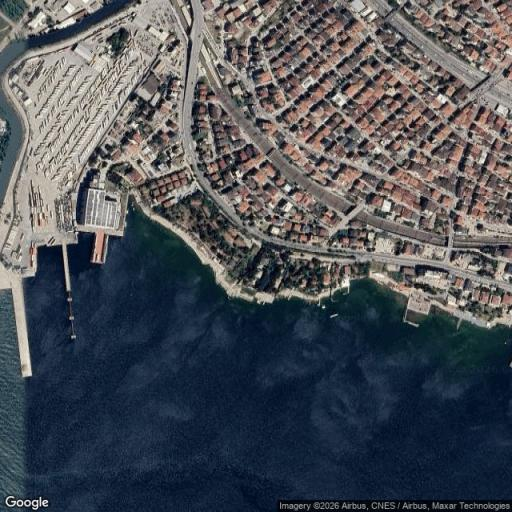ship: (328, 313, 340, 319)
